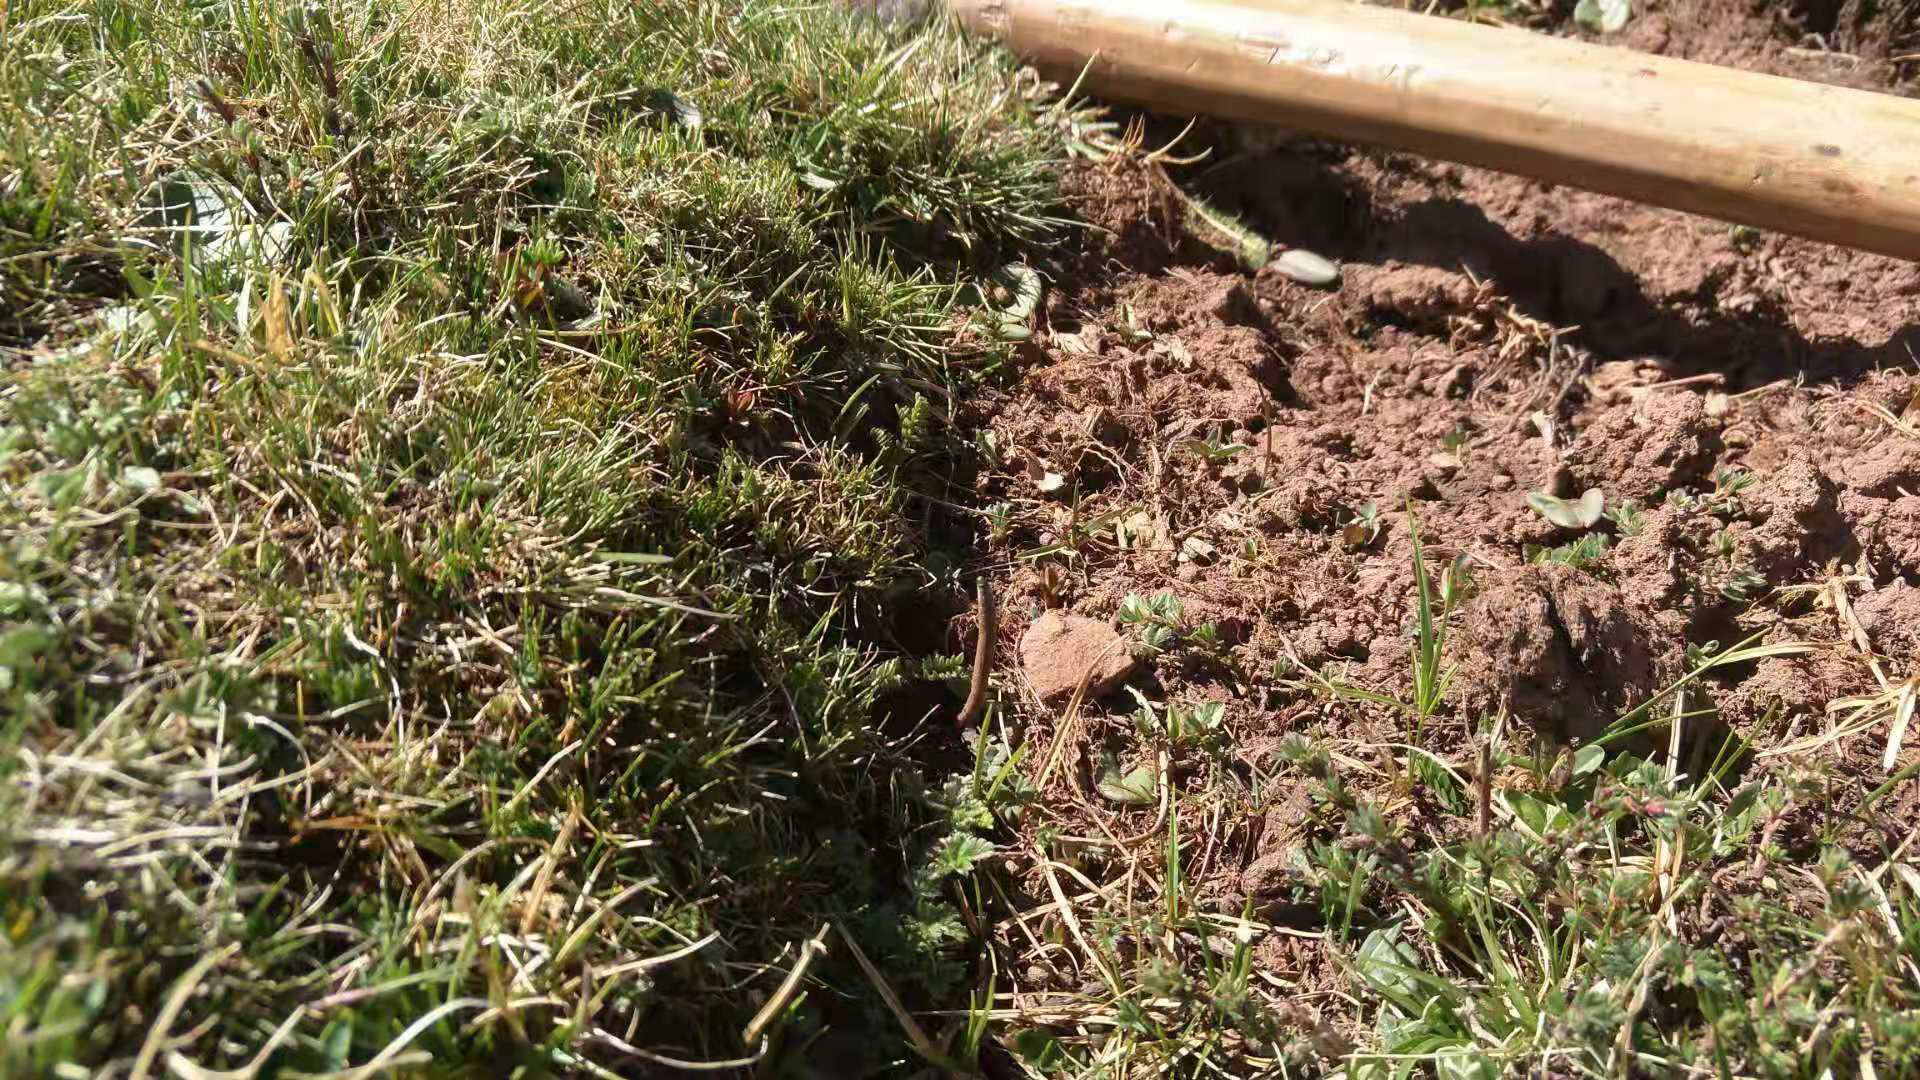cpf: (948, 572, 1001, 725)
